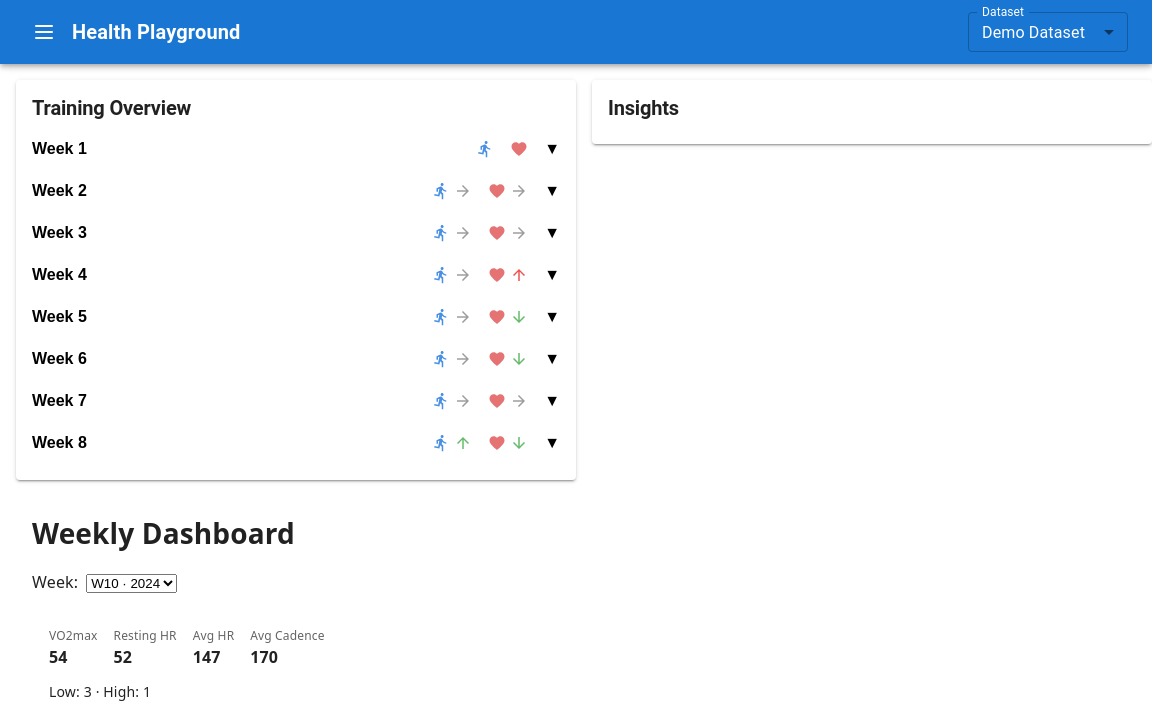
Scenario: Top Bar Navigation Menu — Gherkin Scenarios › Scenario 3: after opening menu, nav-menu-item-home is visible and contains "Home"
The width and height of the screenshot is (1152, 716).
Click the button with test id "nav-menu-trigger" at (44, 32), box [24,12,64,52]
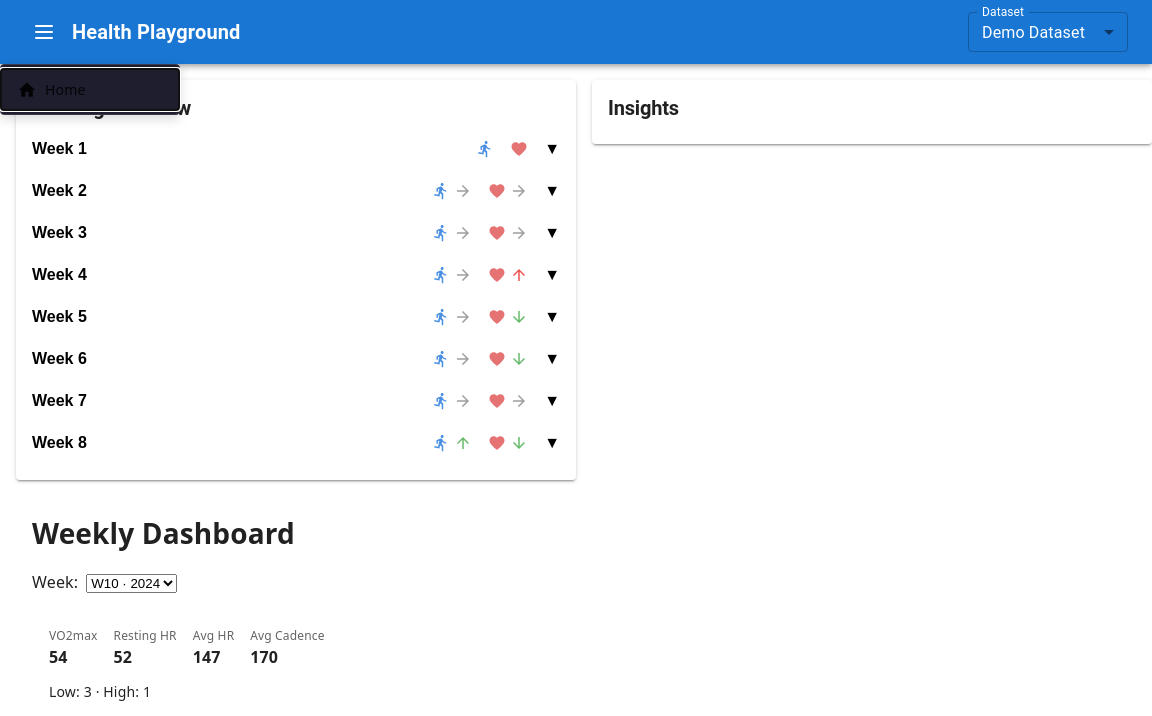
expect the menu with test id "nav-menu" is shown: met, box [0,64,180,115]
expect the menu item with test id "nav-menu-item-home" reads "Home": met, box [17,80,85,100]
